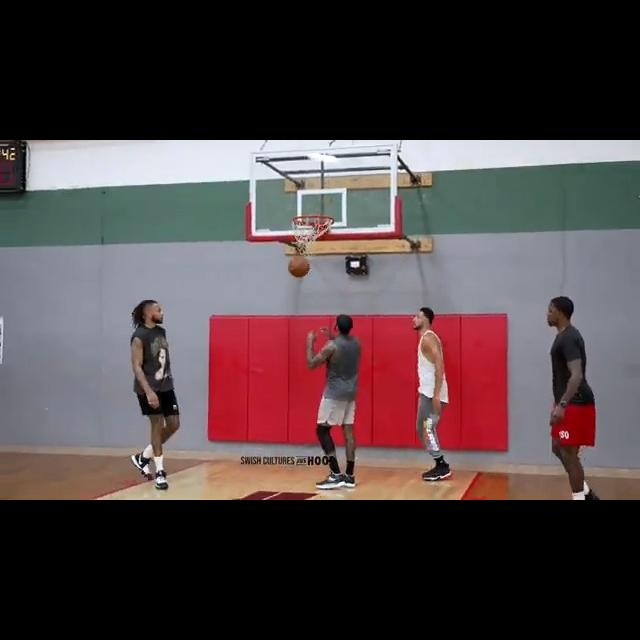basketball: (288, 256, 311, 277)
hoop: (292, 214, 333, 254)
